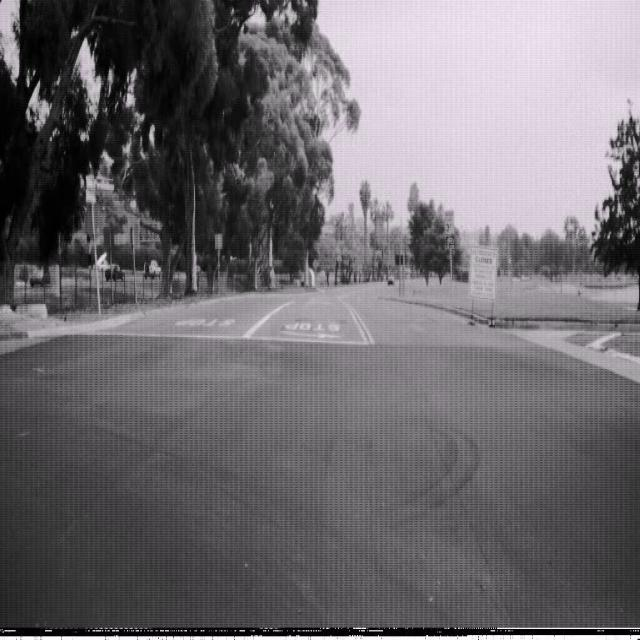speedLimit30: (444, 208, 455, 236)
